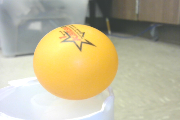PingPongBall: (34, 25, 118, 98)
